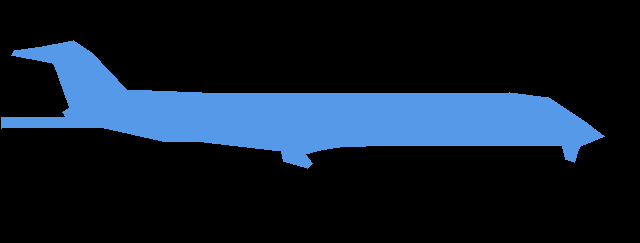Airplane: (1, 40, 605, 168)
